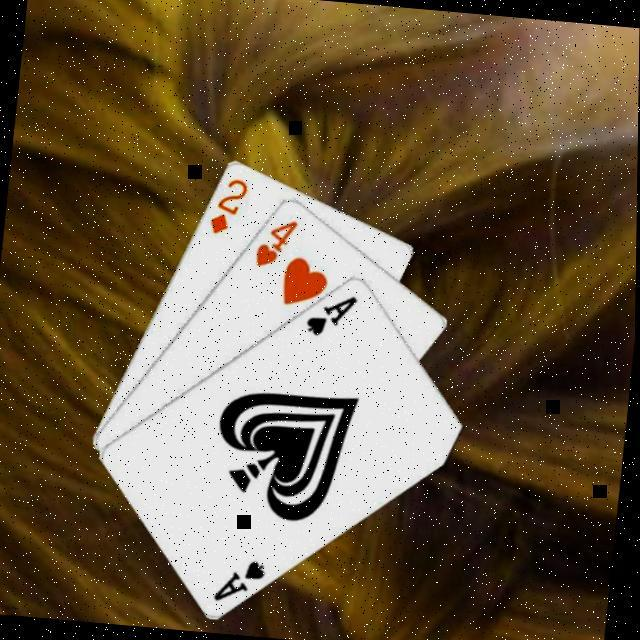2D: (204, 173, 250, 239)
4H: (249, 214, 301, 272)
AS: (210, 552, 270, 608), (300, 288, 360, 342)
